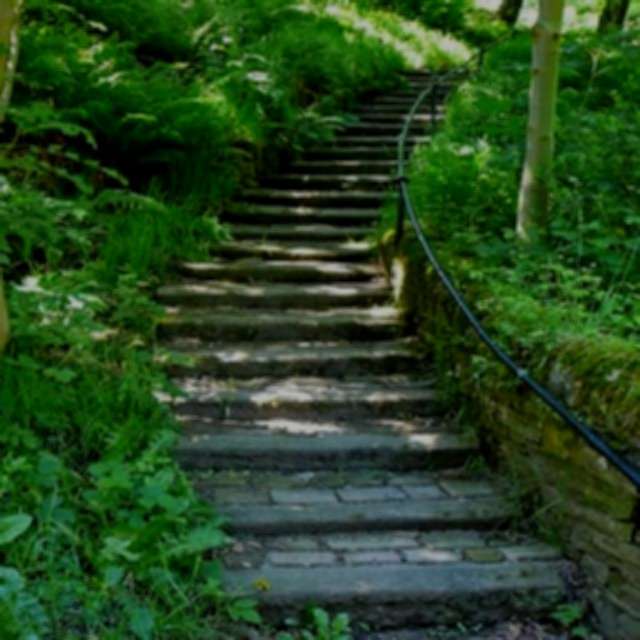stair: (154, 64, 582, 640)
